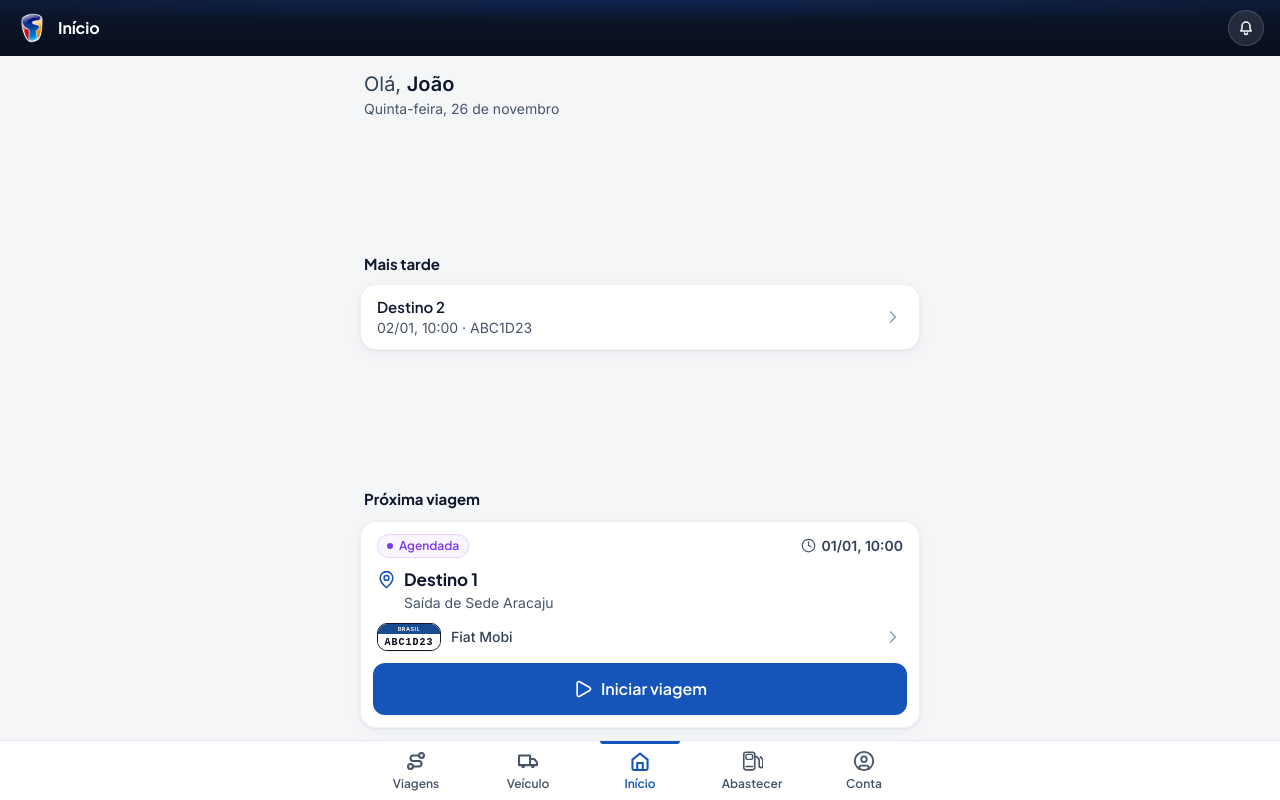
Test: Início e Viagens › destaca a próxima viagem pelo horário e inicia com o km informado
The width and height of the screenshot is (1280, 800).
Expected: the text "Destino 1" is shown, [404,568,478,590]
Step 1. Click the button "Iniciar viagem" → (640,689), box [373,663,907,715]
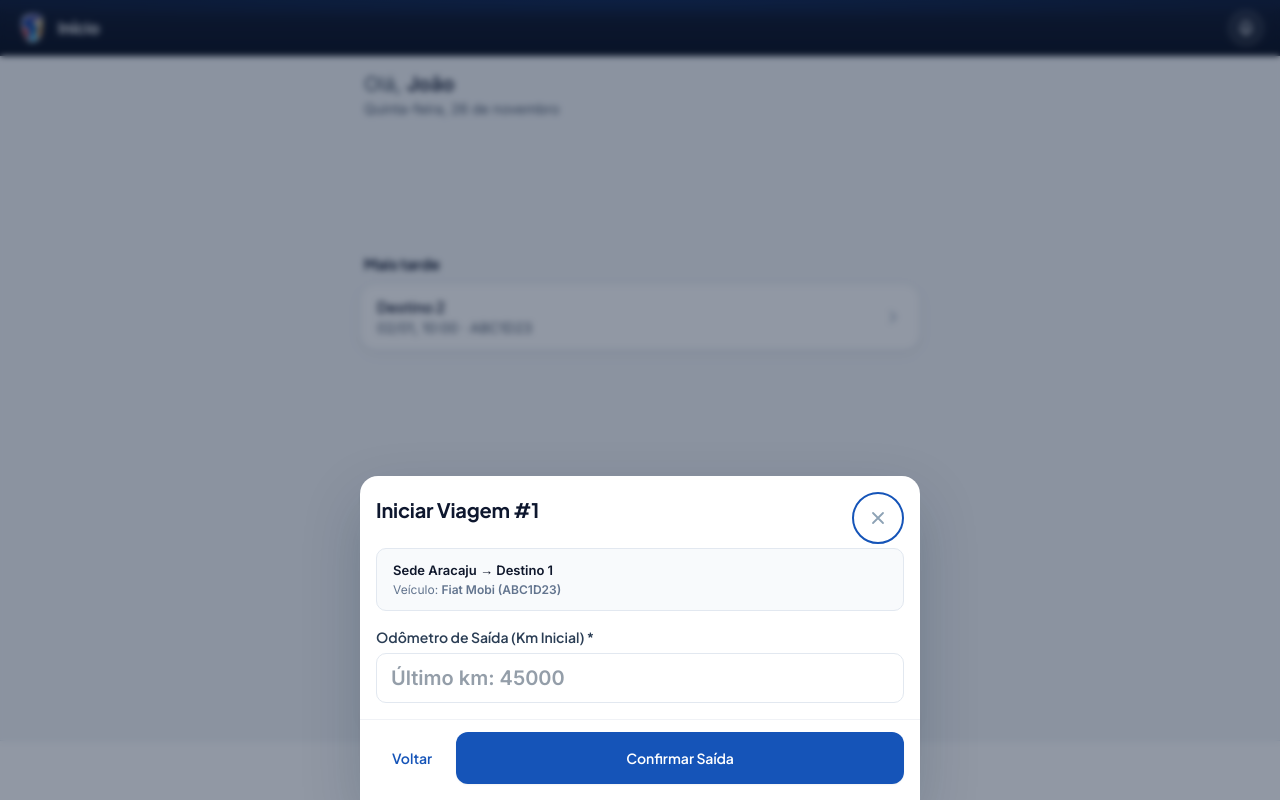
Step 2. Type "45010" into the number field with placeholder "Último km: 45000" → (640,678), box [376,653,904,703]
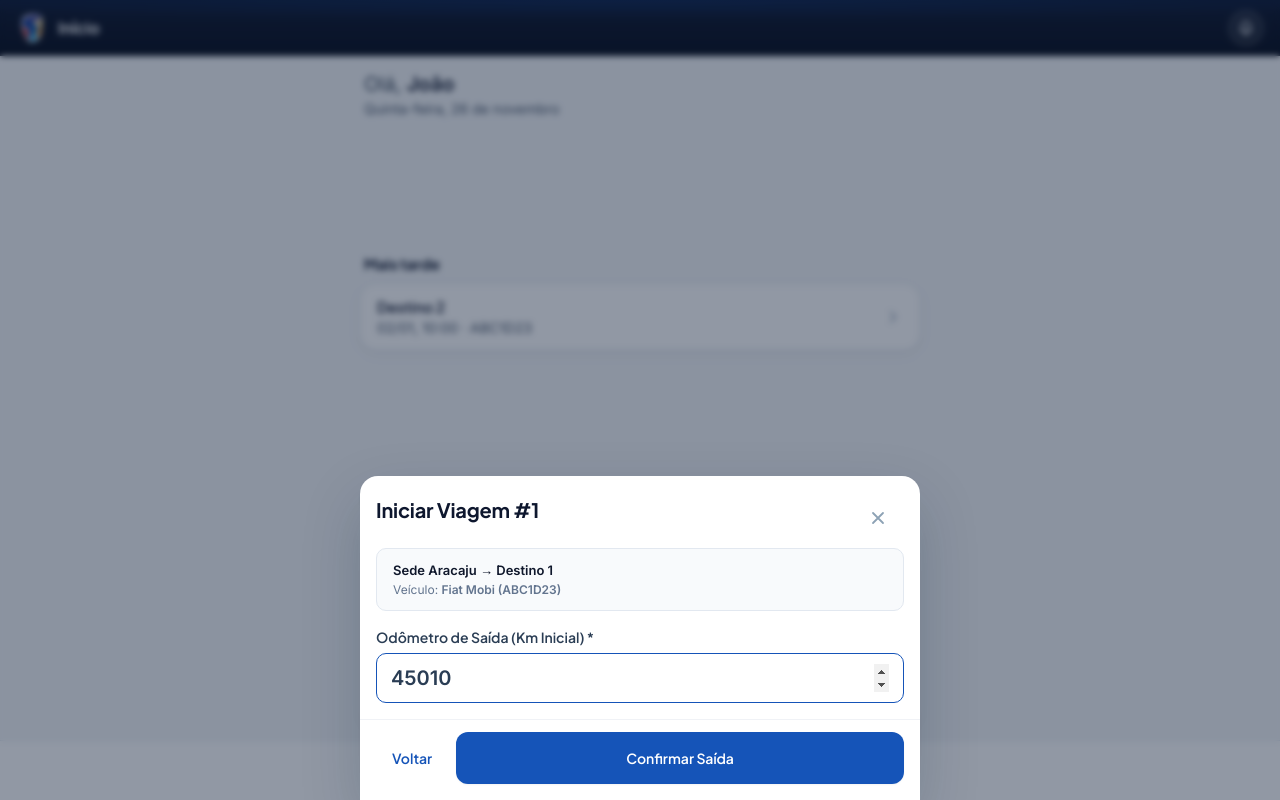
Step 3. Click the button "Confirmar Saída" → (680,758), box [456,732,904,784]
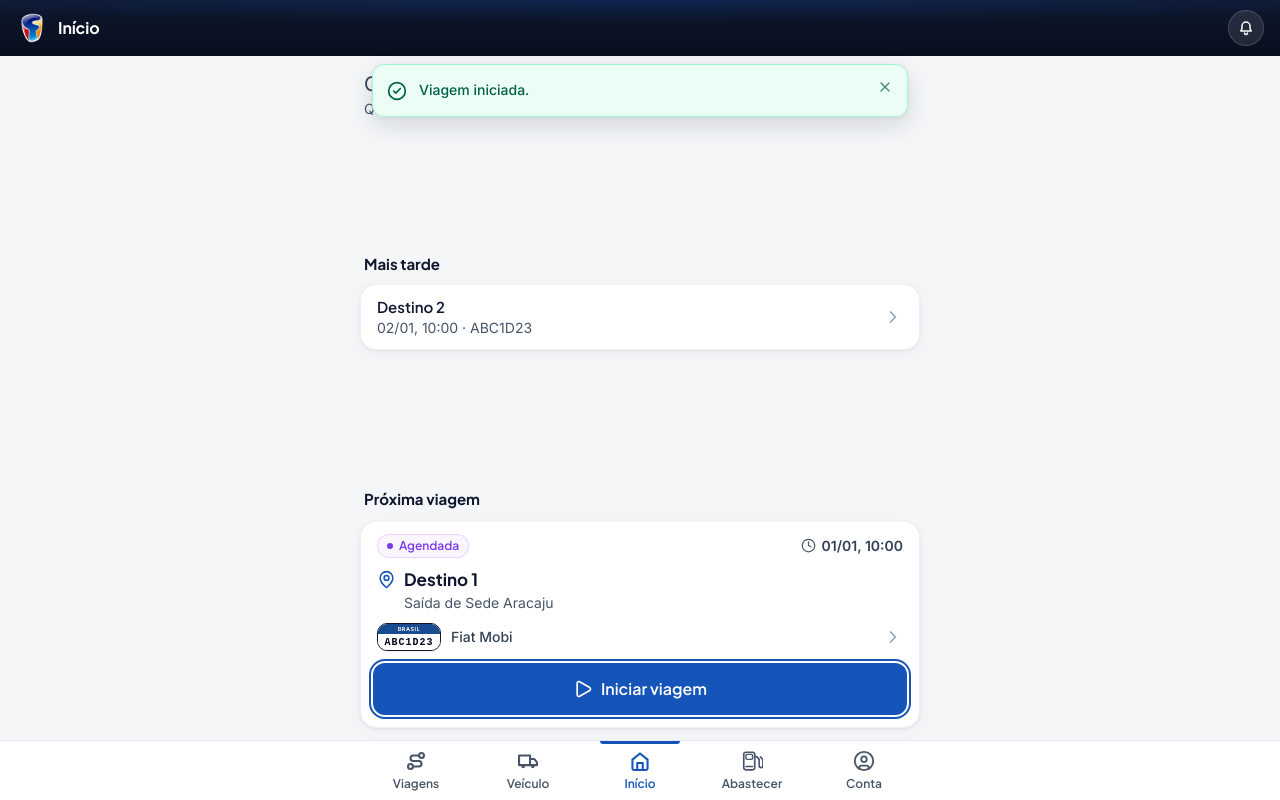
Expected: the text "Viagem iniciada." is shown, [419,81,529,98]
